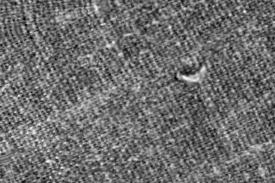snag: (174, 60, 211, 85)
